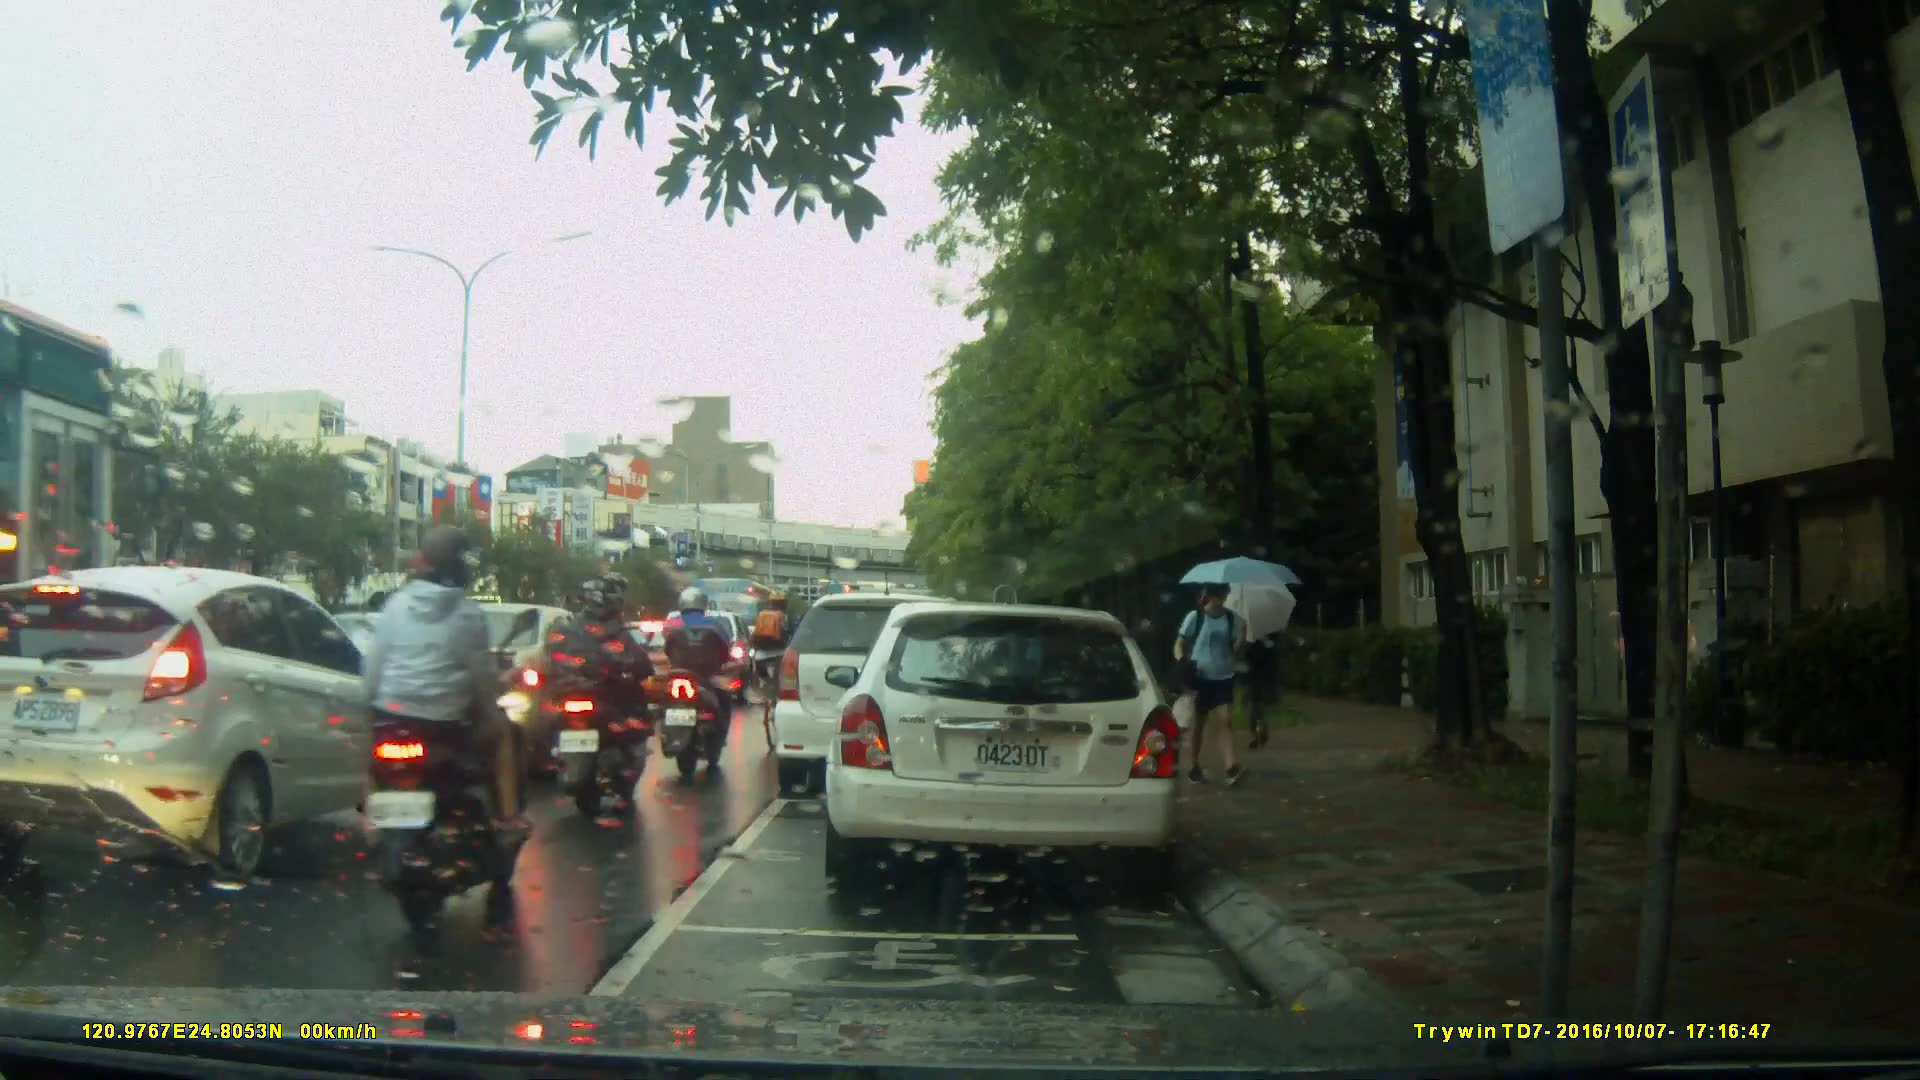pedestrian: (1179, 560, 1256, 802), (1245, 591, 1293, 749)
rider: (355, 512, 541, 926), (575, 579, 667, 816), (663, 584, 743, 776), (760, 588, 808, 760)
vehicle: (1, 564, 424, 888), (835, 594, 1194, 898), (776, 590, 1026, 784), (356, 598, 617, 782), (600, 620, 727, 720), (682, 575, 800, 672)
